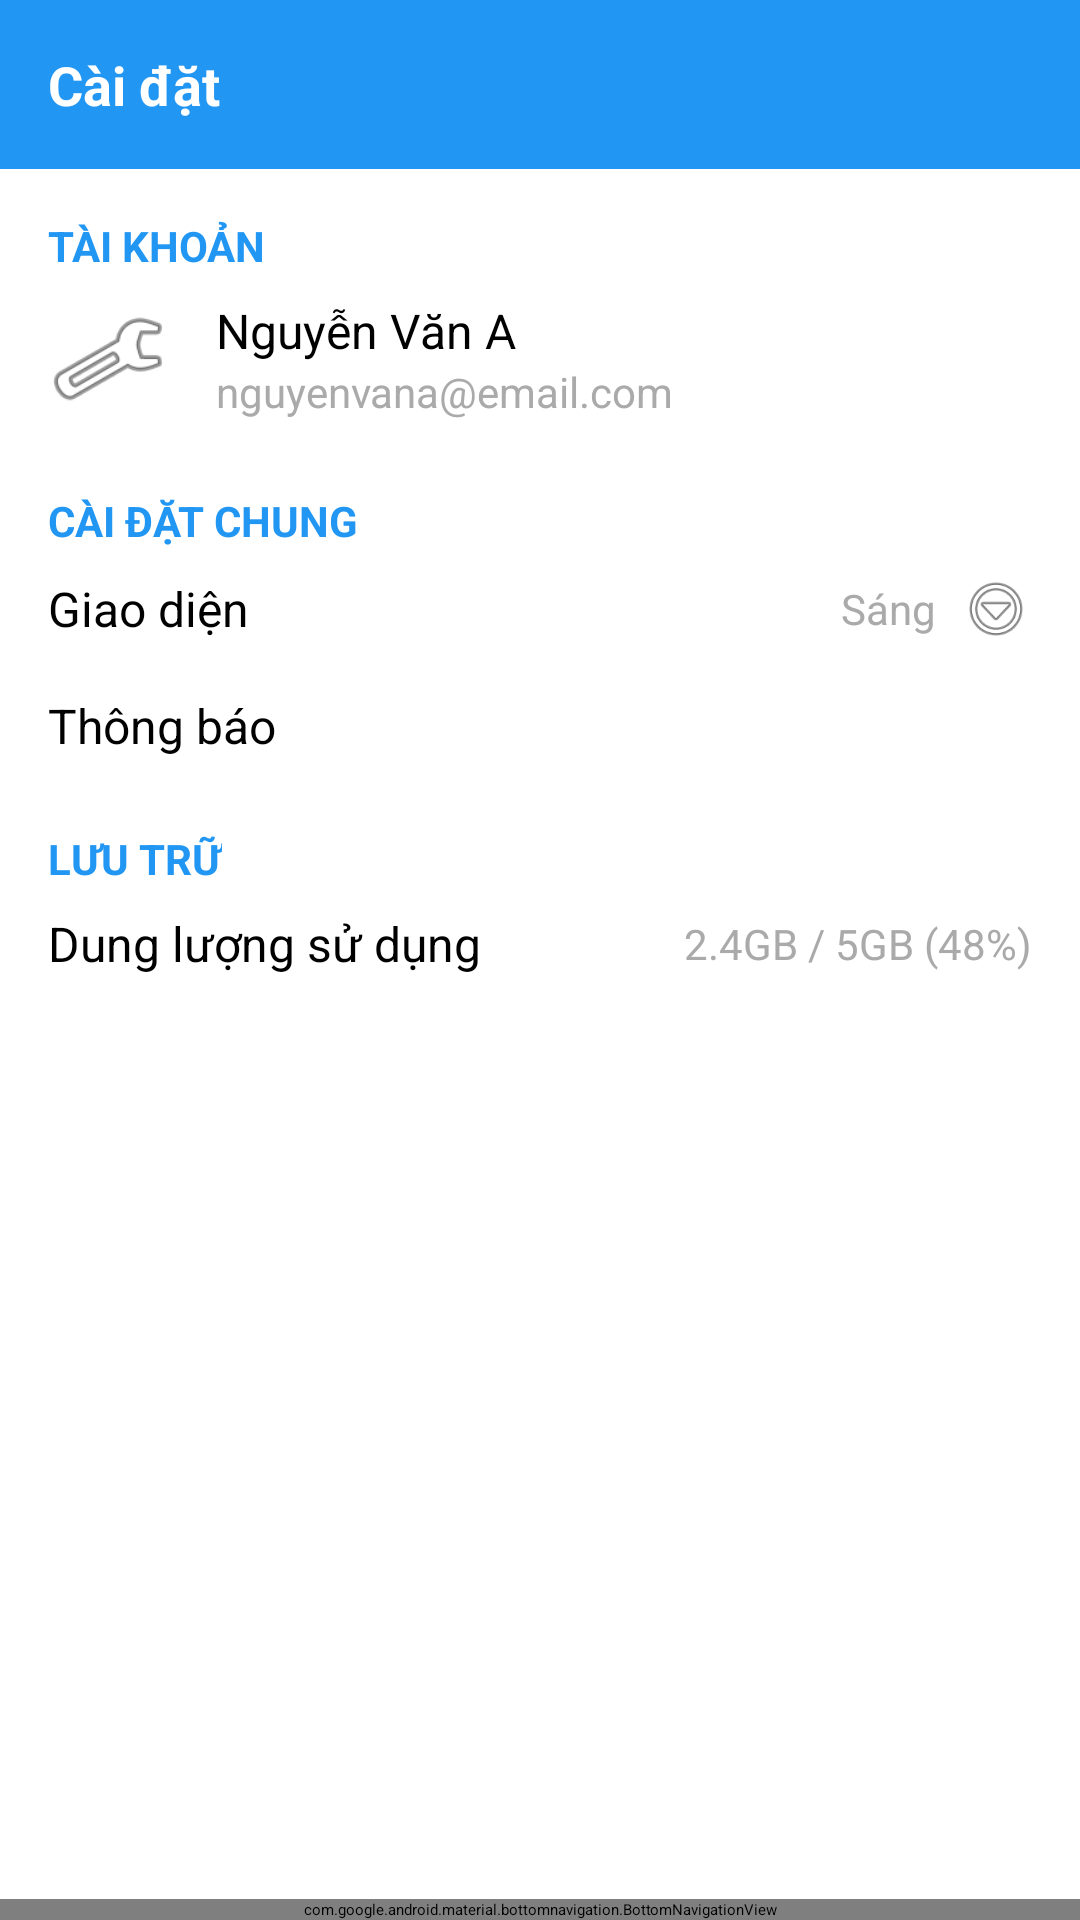

Icons on this 1080x1920 Android screen, each with the point to tap as [x,y]:
manage: [108,359]
more: [996,609]
